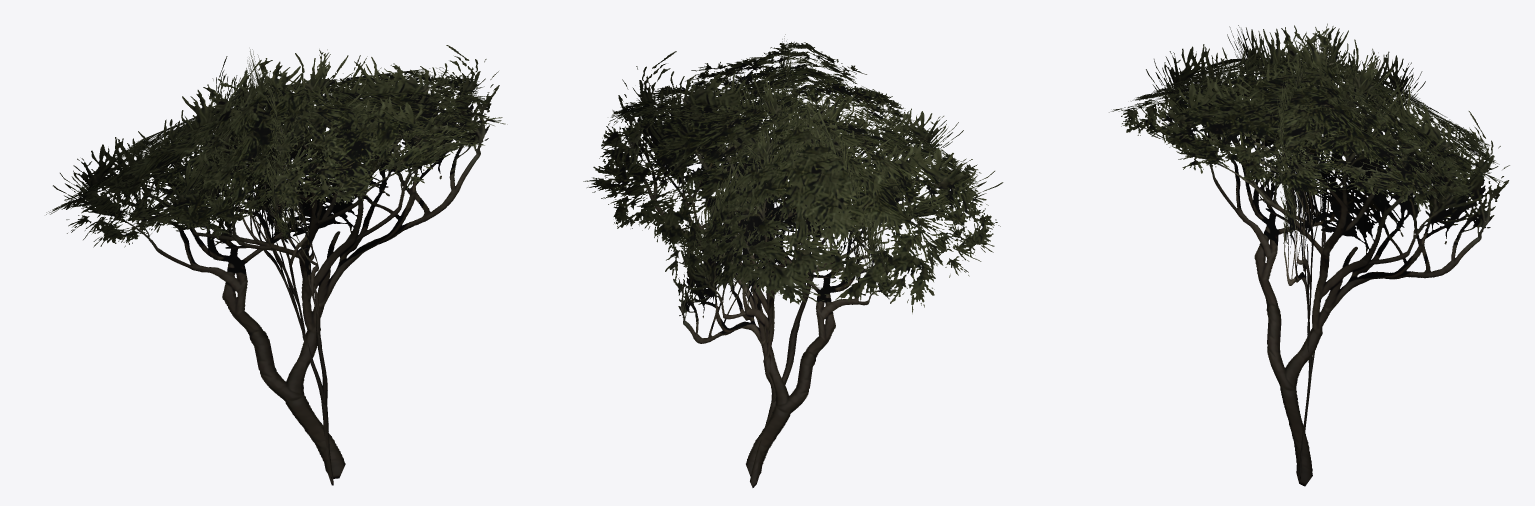
Rendered from Con_02_Part_01_N.fbx.
3 views of the same model, side by side, from view 1: azimuth 30°, elevation 25°; view 2: azimuth 150°, elevation 25°; view 3: azimuth 270°, elevation 25° (orthographic). The views are drawn at different scales.
Parts seen in each view (by area): view 1: Con_02_Part_01; view 2: Con_02_Part_01; view 3: Con_02_Part_01.
Boxes of the visible parts, left/top/right/bottom form: Con_02_Part_01: left=46, top=45, right=507, bottom=485; Con_02_Part_01: left=583, top=34, right=1003, bottom=487; Con_02_Part_01: left=1109, top=23, right=1509, bottom=486.
Size of the model in its own units: 660 by 652 by 590.
